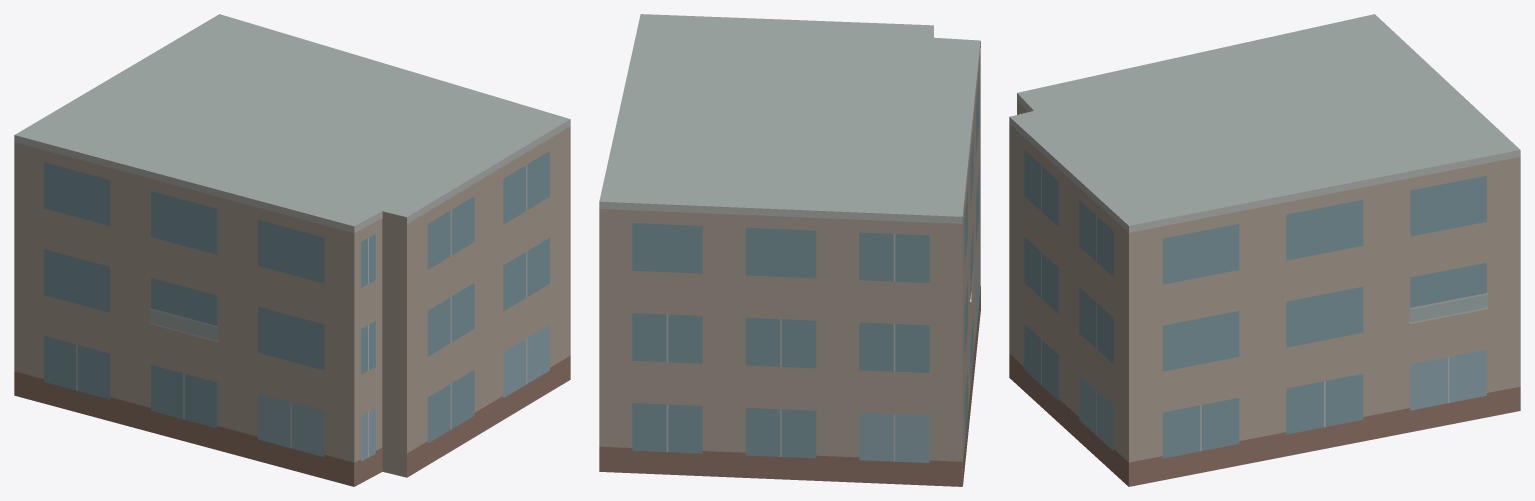
File: survey-upis-32776033.glb
The picture shows the model from 3 angles, left to right: view 1: azimuth 30°, elevation 25°; view 2: azimuth 150°, elevation 25°; view 3: azimuth 270°, elevation 25°; orthographic projection. The views are drawn at different scales.
Parts seen in each view (by area): view 1: survey-upis-32776033.tmp; view 2: survey-upis-32776033.tmp; view 3: survey-upis-32776033.tmp.
Boxes of the visible parts, x1,y1,x2,y2 form: survey-upis-32776033.tmp: (14,14,570,486); survey-upis-32776033.tmp: (599,14,980,486); survey-upis-32776033.tmp: (1009,14,1520,486).
Bounding box in the file's own units: 15.94 × 9.15 × 16.25.
